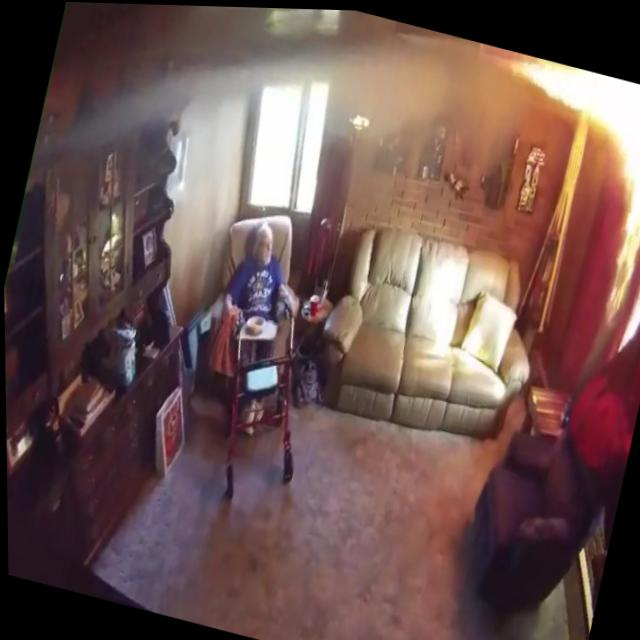fire: (495, 48, 640, 170), (581, 78, 640, 322)
